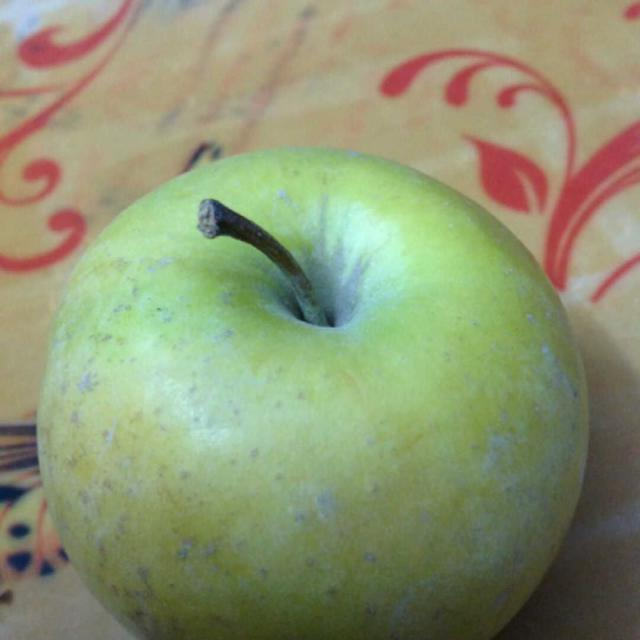Rotten: (48, 168, 596, 640)
